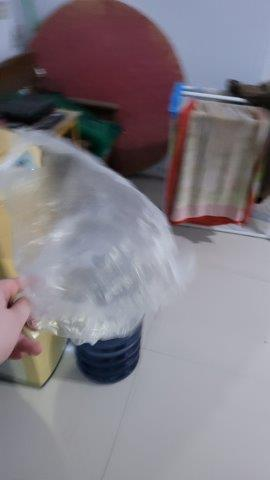plastik: (5, 133, 209, 348)
